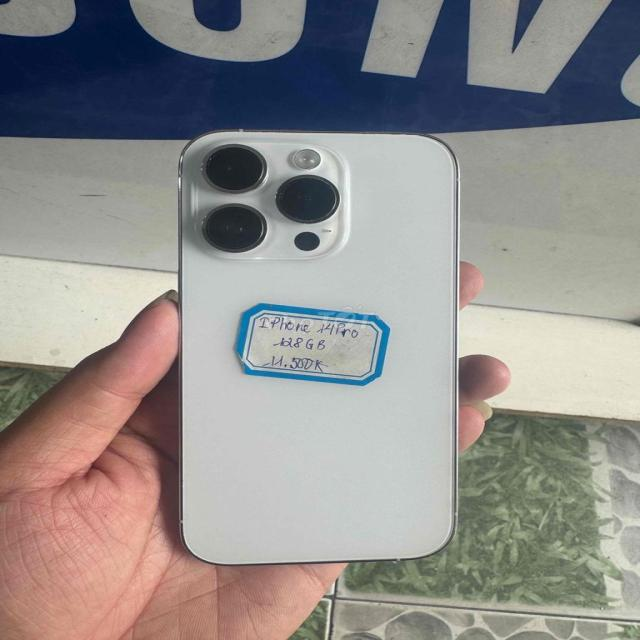gen_14: (158, 127, 485, 579)
